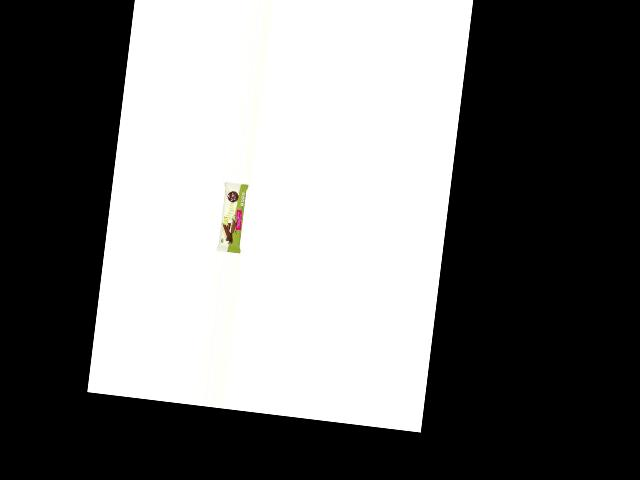chocolate: (214, 182, 251, 255)
